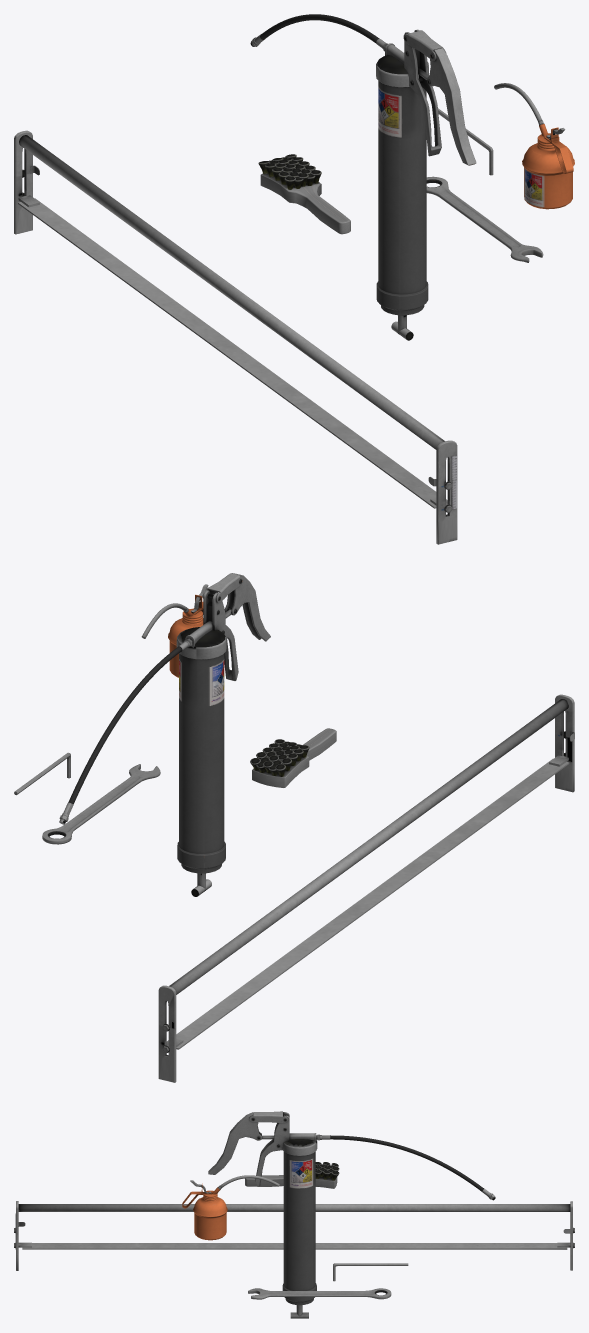
Rendered from Accesorios.fbx.
3 renders of one model, top to bottom at view 1: azimuth 30°, elevation 25°; view 2: azimuth 150°, elevation 25°; view 3: azimuth 270°, elevation 25°, orthographic. The views are drawn at different scales.
Parts seen in each view (by area): view 1: bvbbv, SDSDDSDSDDDFFG, Cylinder.002, trt, pCube2bvbvb, pCube1, sdddddaw, llave_boca_pCylinder2, cvcv, fdfdasdfweff, bvbvbvb, cvcvv; view 2: bvbbv, SDSDDSDSDDDFFG, Cylinder.002, fdfdasdfweff, llave_boca_pCylinder2, sdddddaw, pCube1, pCube2bvbvb, cvcvv, cvcv, bvbvbvb, trt; view 3: bvbbv, Cylinder.002, SDSDDSDSDDDFFG, trt, llave_boca_pCylinder2, pCube2bvbvb, cvcvv, cvcv, pCube1, bvbvbvb, bvbvb.
Boxes of the visible parts, x1,y1,x2,y2 form: bvbbv: (376,81,428,315); SDSDDSDSDDDFFG: (18,198,447,508); Cylinder.002: (19,135,444,449); trt: (522,133,574,209); pCube2bvbvb: (427,48,476,165); pCube1: (260,173,350,234); sdddddaw: (436,440,457,544); llave_boca_pCylinder2: (426,176,543,262); cvcv: (404,29,441,156); fdfdasdfweff: (14,130,32,234); bvbvbvb: (376,55,428,87); cvcvv: (260,14,379,43); bvbbv: (177,653,225,873); SDSDDSDSDDDFFG: (166,758,569,1049); Cylinder.002: (169,699,568,994); fdfdasdfweff: (158,985,176,1082); llave_boca_pCylinder2: (42,764,160,844); sdddddaw: (555,694,574,792); pCube1: (252,728,336,787); pCube2bvbvb: (225,573,270,641); cvcvv: (68,646,181,804); cvcv: (203,590,238,680); bvbvbvb: (176,627,226,659); trt: (168,608,203,677); bvbbv: (282,1151,316,1305); Cylinder.002: (18,1204,570,1211); SDSDDSDSDDDFFG: (22,1243,567,1249); trt: (193,1190,227,1240); llave_boca_pCylinder2: (248,1288,391,1299); pCube2bvbvb: (208,1112,261,1174); cvcvv: (330,1135,483,1191); cvcv: (255,1112,289,1186); pCube1: (245,1175,337,1188); bvbvbvb: (283,1139,317,1155); bvbvb: (249,1111,288,1122).
Size of the model in its own units: 23.66 by 24.04 by 58.43.
Materials: 1 (1 with a texture image).
